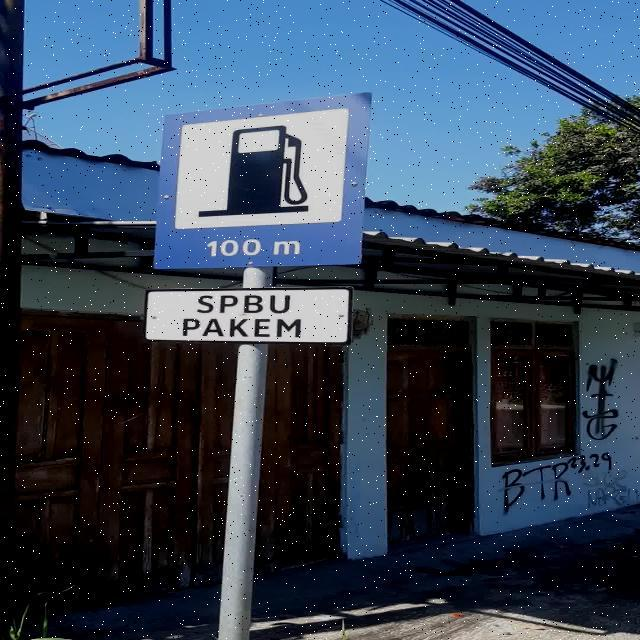Pom Bensin: (154, 93, 372, 270)
